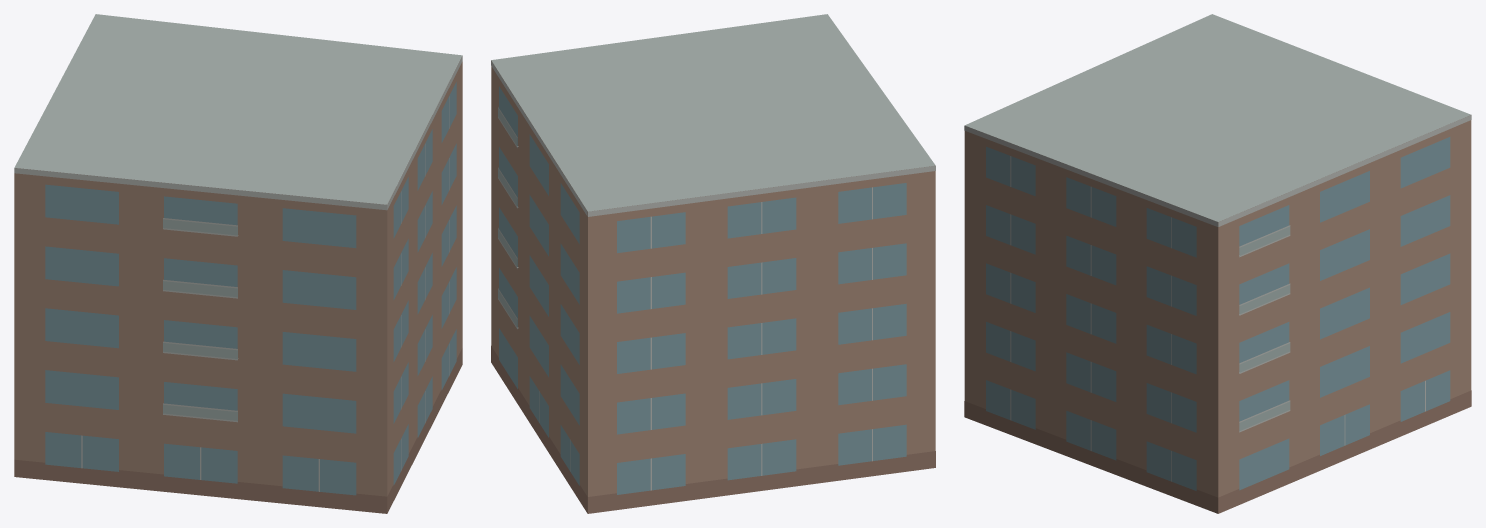
The model's file is survey-upis-32669069.glb.
The picture shows the model from 3 angles, left to right: view 1: azimuth 30°, elevation 25°; view 2: azimuth 150°, elevation 25°; view 3: azimuth 270°, elevation 25°; orthographic projection. The views are drawn at different scales.
Parts seen in each view (by area): view 1: survey-upis-32669069.tmp; view 2: survey-upis-32669069.tmp; view 3: survey-upis-32669069.tmp.
Boxes of the visible parts, box(x1,y1,x2,y2) form: survey-upis-32669069.tmp: box(14, 14, 462, 513); survey-upis-32669069.tmp: box(491, 14, 935, 513); survey-upis-32669069.tmp: box(964, 14, 1471, 513).
Size of the model in its own units: 21.03 by 13.75 by 21.65.
